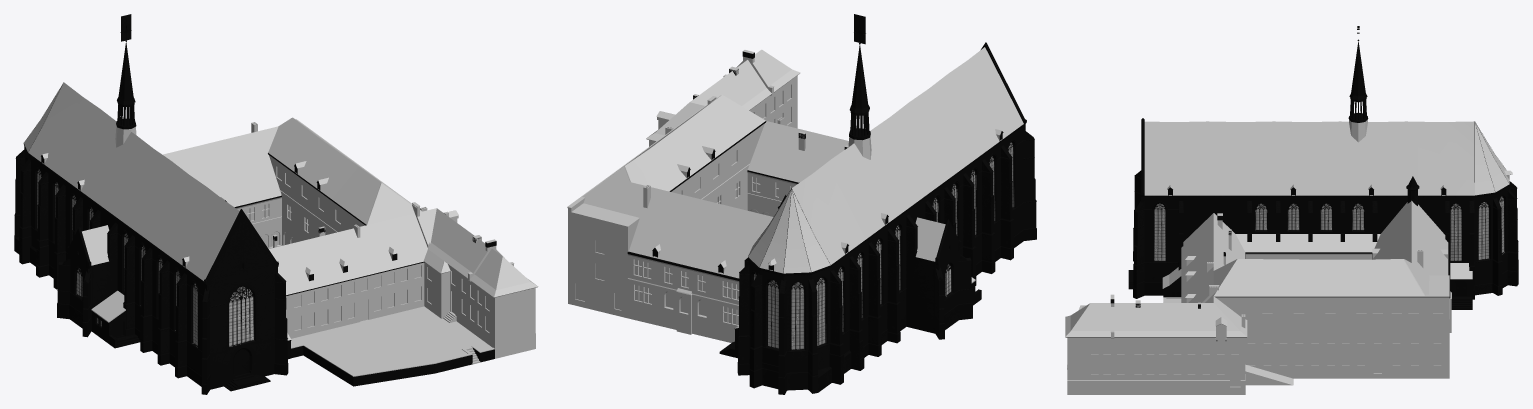
File: church.fbx
3 renders of one model, left to right at view 1: azimuth 30°, elevation 25°; view 2: azimuth 150°, elevation 25°; view 3: azimuth 270°, elevation 25°, orthographic. The views are drawn at different scales.
Visible parts, largest first — view 1: cloitre roof, church, cloitre; view 2: cloitre roof, church, cloitre; view 3: cloitre roof, cloitre, church.
Boxes of the visible parts, x1,y1,x2,y2 form: cloitre roof: (24,82,537,340); church: (14,14,496,394); cloitre: (236,118,537,376); cloitre roof: (583,47,1023,328); church: (627,14,1036,394); cloitre: (567,50,848,342); cloitre roof: (1065,119,1512,336); cloitre: (1065,213,1451,394); church: (1110,26,1518,309).
Bounding box in the file's own units: 5588 × 4555 × 7117.
